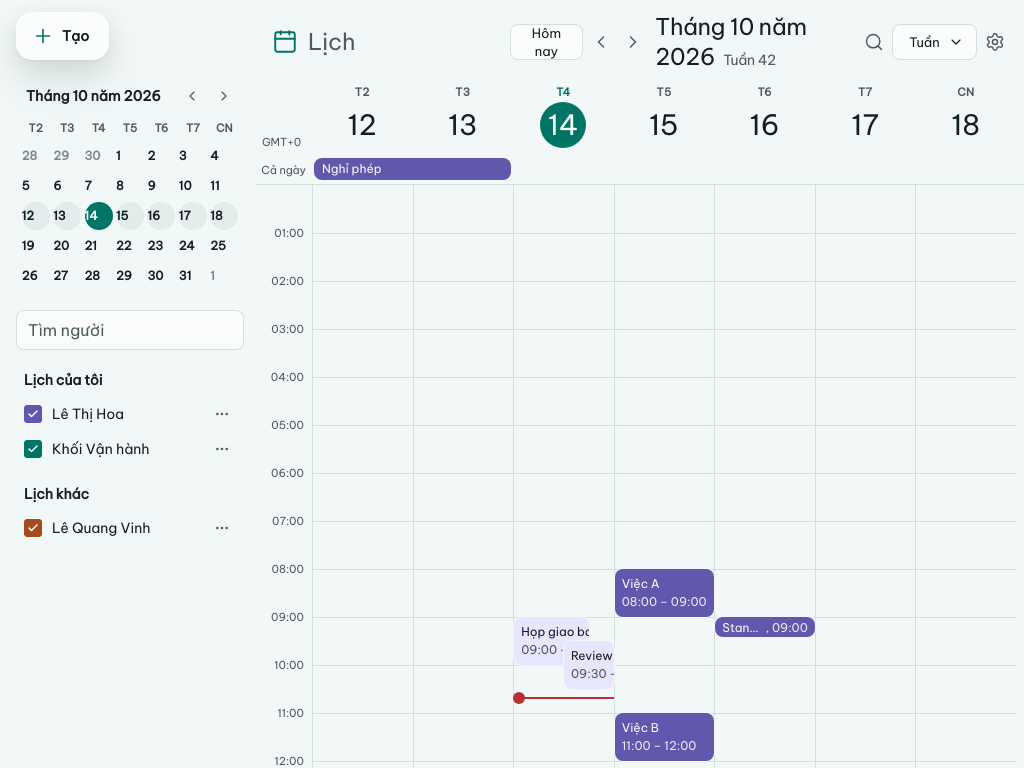
search › opens the details of a result
This screenshot has width=1024, height=768.
Type keys "/"
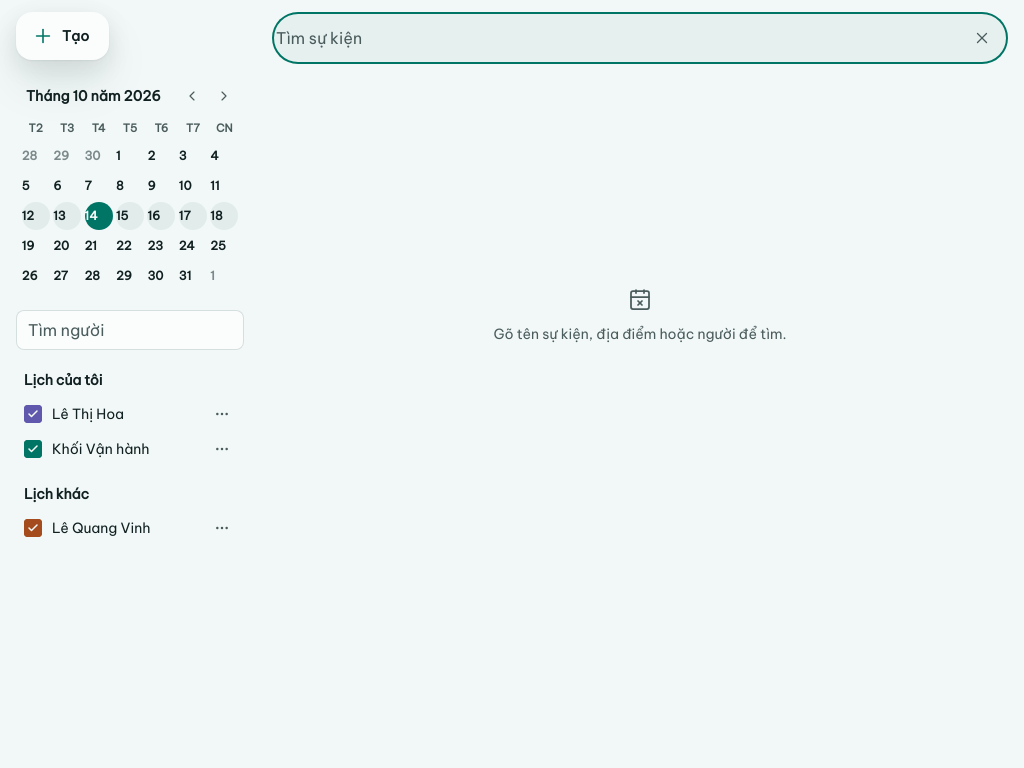
Type "Standup" into the search field labelled "Tìm sự kiện". click: x=618, y=38
box: [276,16,960,60]
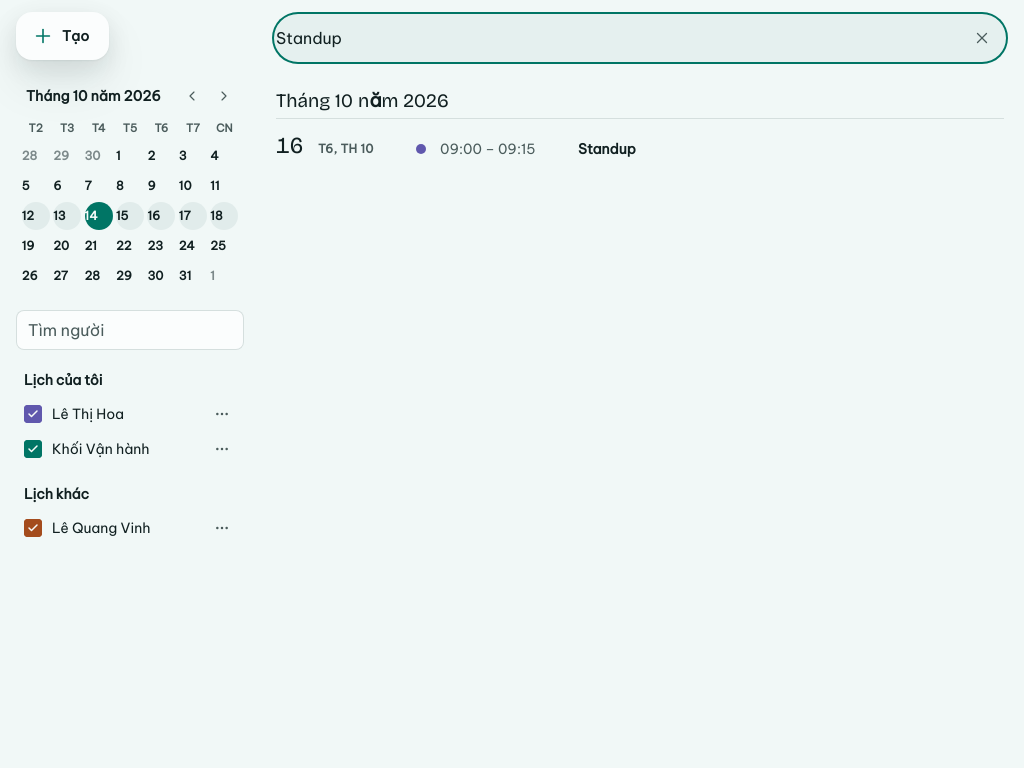
Click the button named "Standup". click: x=421, y=149
box: [408,131,1004,167]
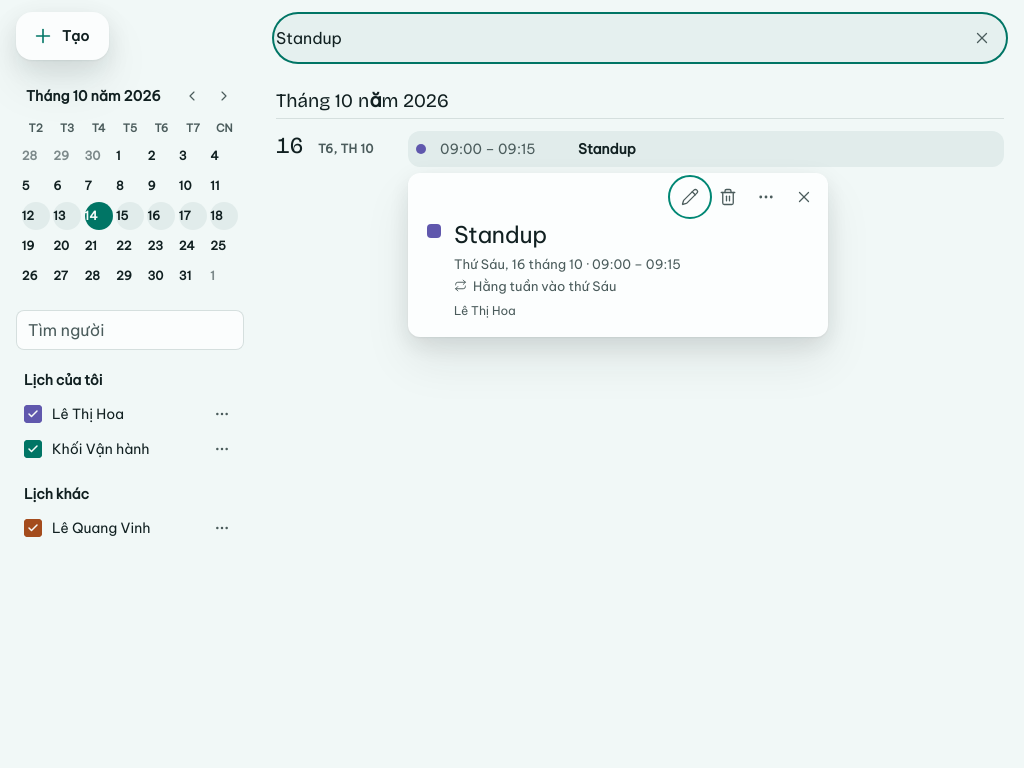
Expected: the dialog "Standup" is shown, [408,173,828,337]
